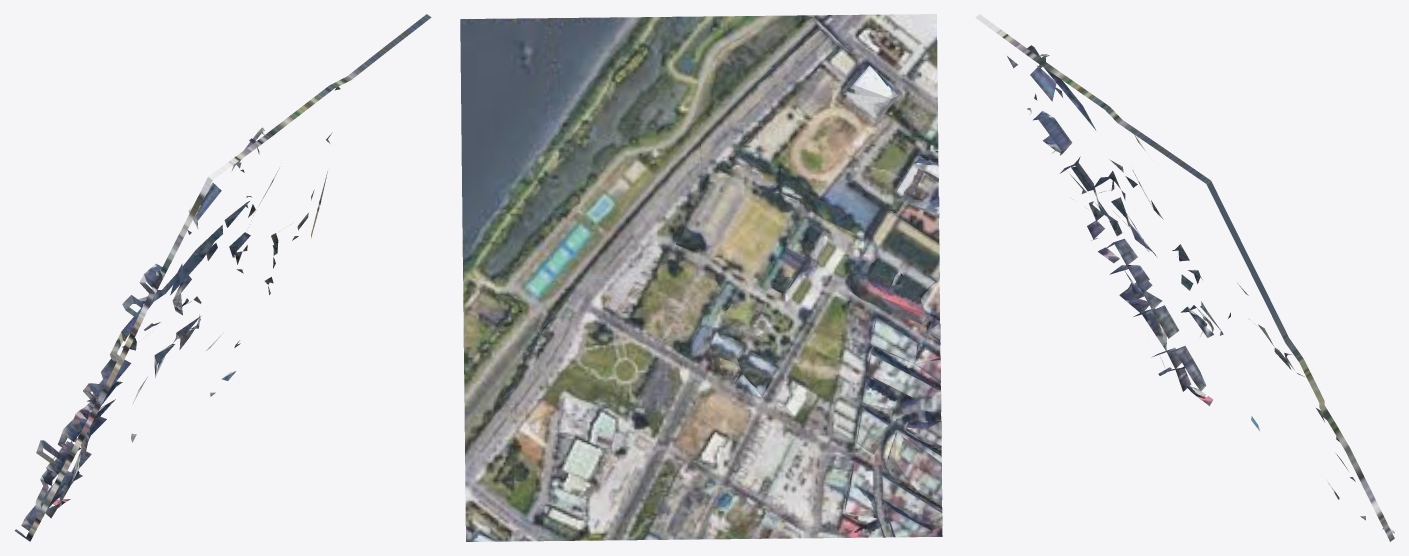
3 renders of one model, left to right at view 1: azimuth 30°, elevation 25°; view 2: azimuth 150°, elevation 25°; view 3: azimuth 270°, elevation 25°, orthographic. The views are drawn at different scales.
Size of the model in its own units: 623 by 561 by 515.
Materials: 1 (1 with a texture image).
